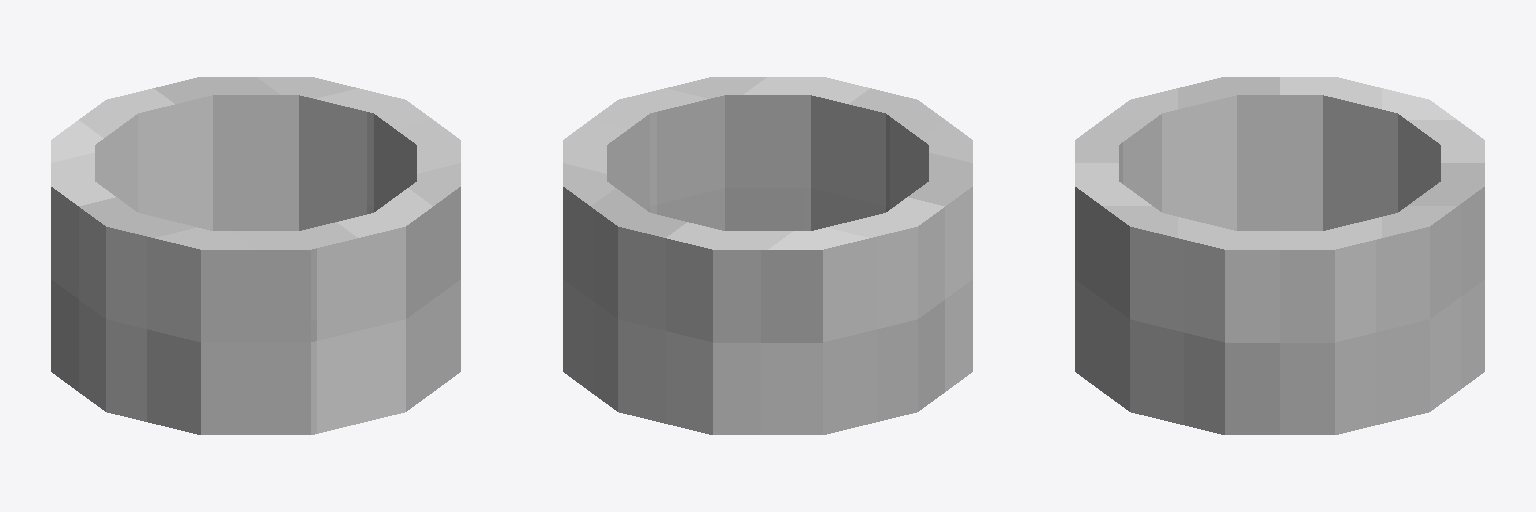
3 views of the same model, side by side, from view 1: azimuth 30°, elevation 25°; view 2: azimuth 150°, elevation 25°; view 3: azimuth 270°, elevation 25° (orthographic).
Parts seen in each view (by area): view 1: tube; view 2: tube; view 3: tube.
Part boxes in pixels (x1,y1,x2,y2): tube: (51, 77, 460, 434); tube: (563, 77, 972, 434); tube: (1075, 77, 1484, 434).
Size of the model in its own units: 0.25 by 0.125 by 0.25.
Materials: 1 (1 with a texture image).